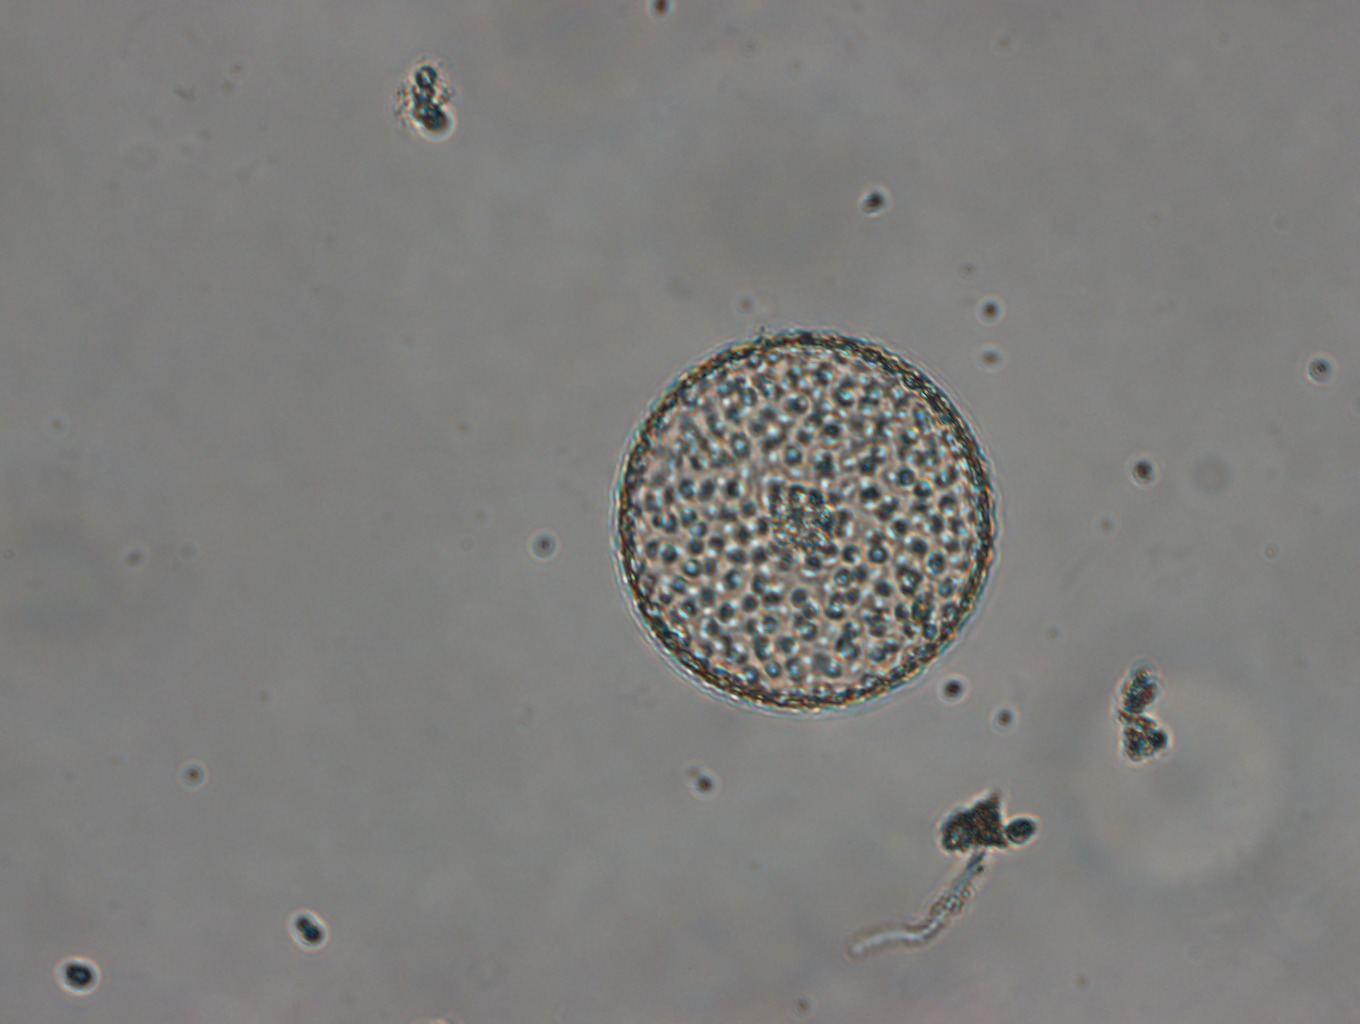coscinodiscus: (611, 329, 1003, 715)
